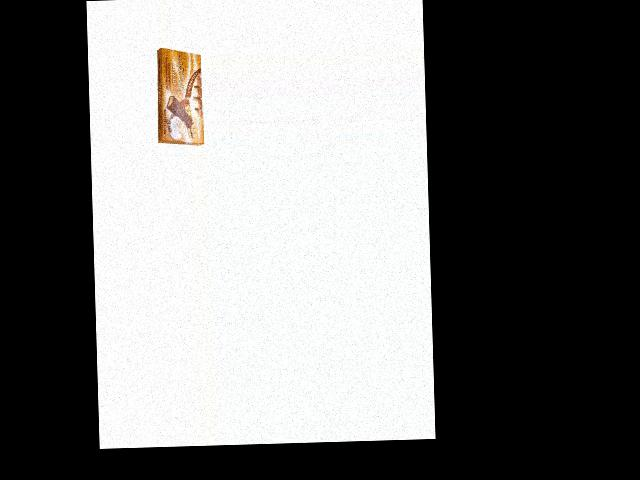chocolate: (155, 44, 204, 147)
